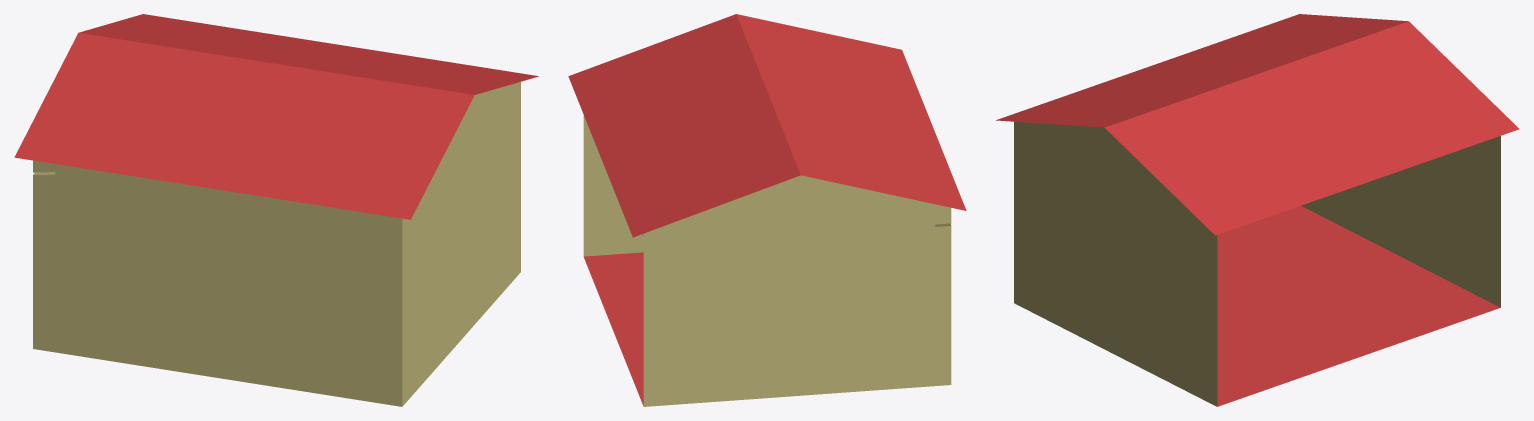
The picture shows the model from 3 angles, left to right: view 1: azimuth 30°, elevation 25°; view 2: azimuth 150°, elevation 25°; view 3: azimuth 270°, elevation 25°; orthographic projection. The views are drawn at different scales.
Bounding box in the file's own units: 19.23 × 19.47 × 9.45.
